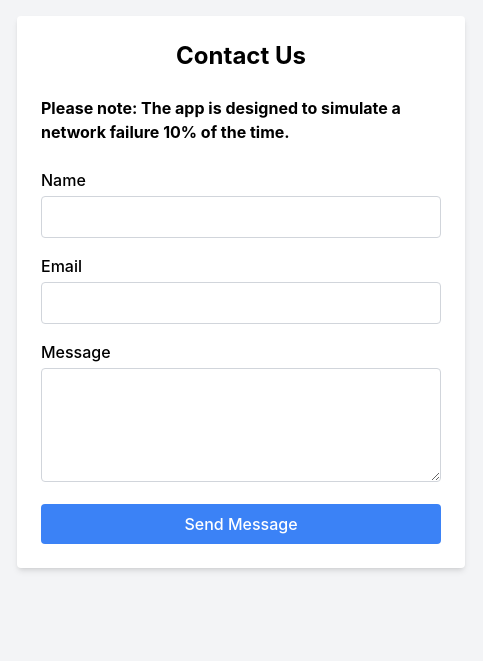
Test: ContactForm Component › clears validation errors when user starts typing
Click the button "Send Message" at (241,524), box [41,504,441,544]
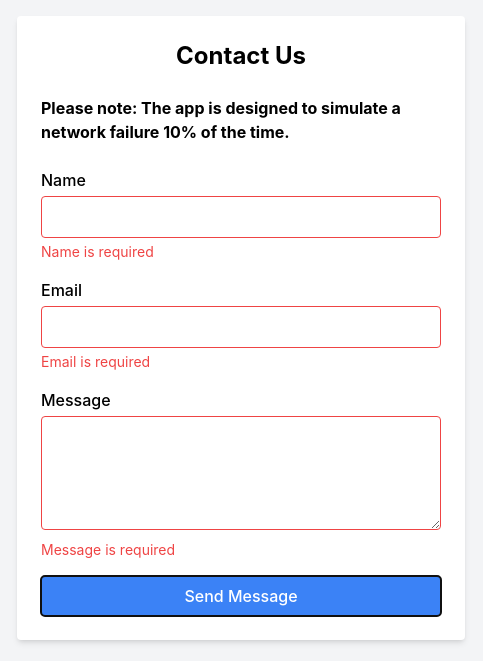
Expected: the text "Name is required" is shown, [41,243,154,260]
Type "T" into the field labelled "Name" at (241,217), box [41,196,441,238]
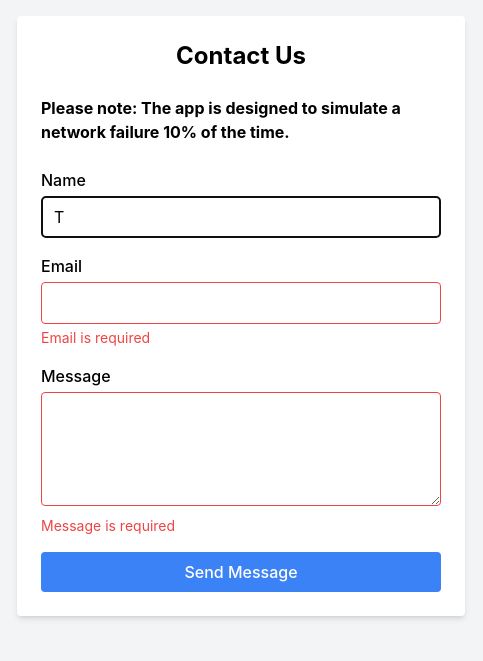
Expected: the text "Name is required" is gone
